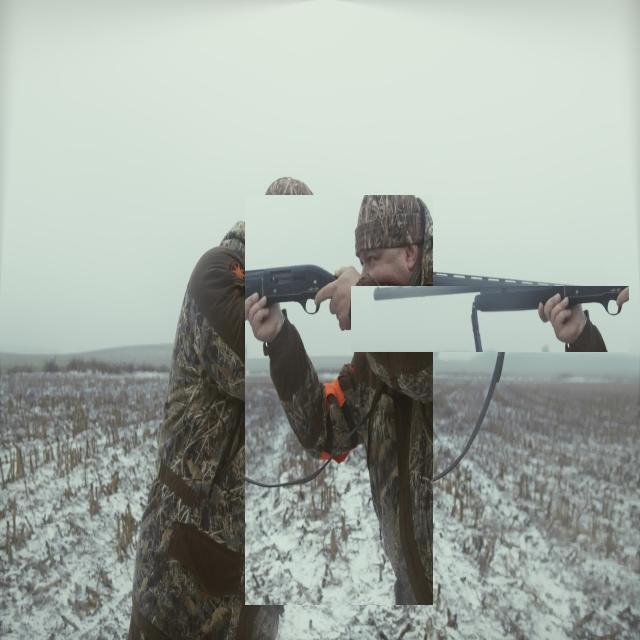poacher: (246, 195, 434, 606)
weapon: (352, 286, 630, 352)
